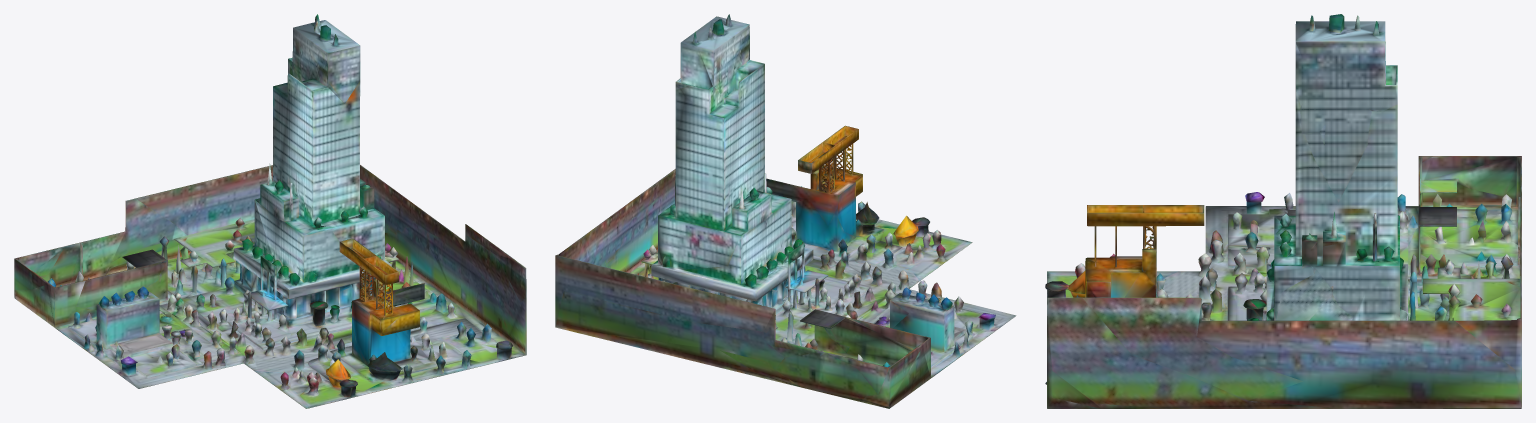
3 renders of one model, left to right at view 1: azimuth 30°, elevation 25°; view 2: azimuth 150°, elevation 25°; view 3: azimuth 270°, elevation 25°, orthographic. The views are drawn at different scales.
Parts seen in each view (by area): view 1: node_0; view 2: node_0; view 3: node_0.
Part boxes in pixels (x1,y1,x2,y2): node_0: (14, 14, 526, 408); node_0: (555, 14, 1016, 408); node_0: (1045, 14, 1521, 408).
Size of the model in its own units: 0.7423 by 0.5803 by 0.7389.
1 material, 1 textured.
